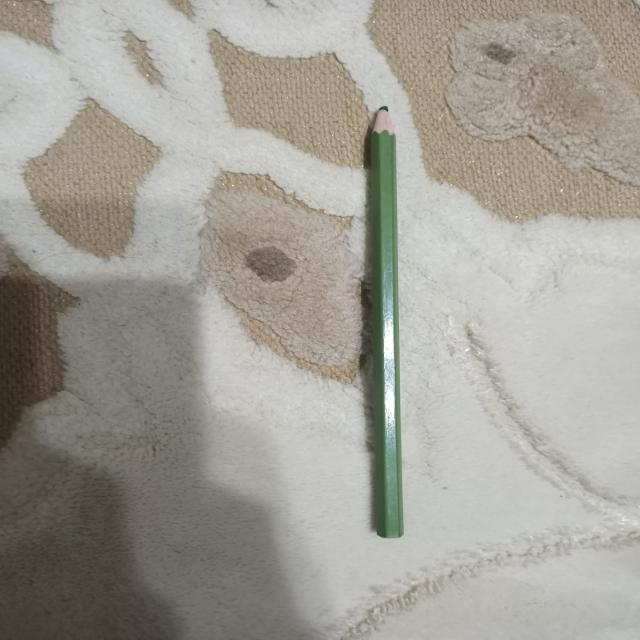pencil: (357, 91, 416, 540)
